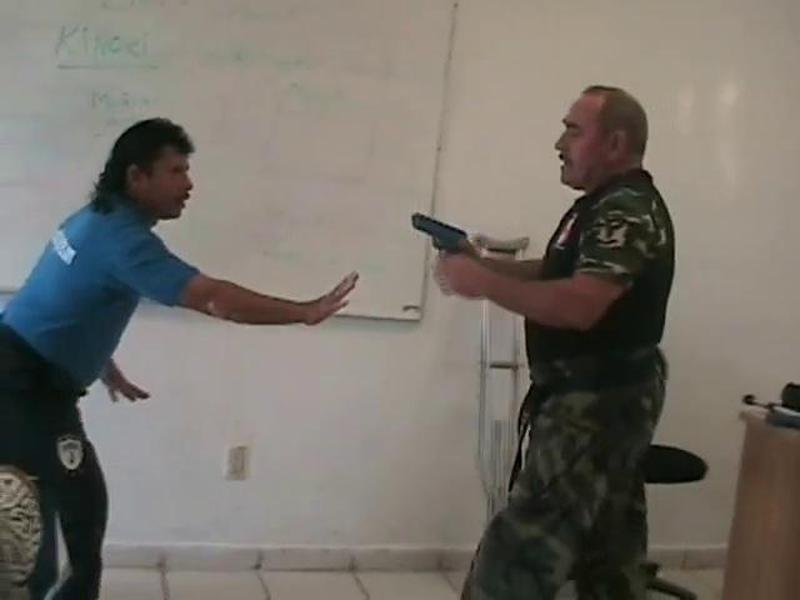Pistola: (404, 204, 486, 314)
